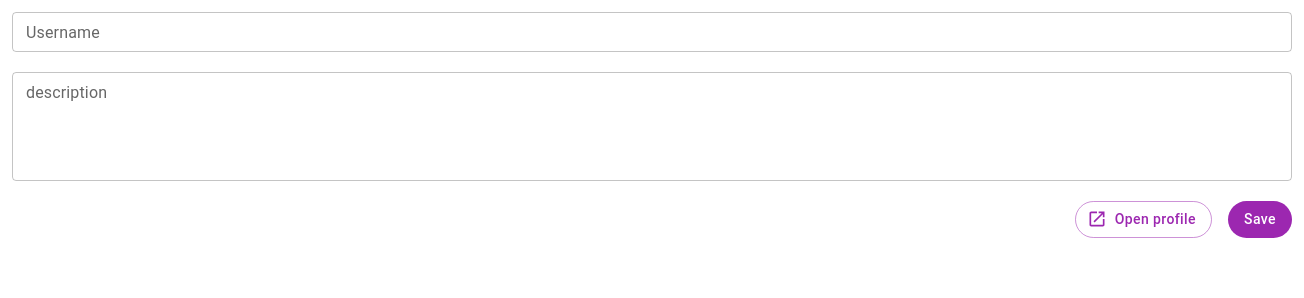
ProfileForm › validates required fields
Click the button "Save": x=1260, y=219 [1228,201,1292,238]
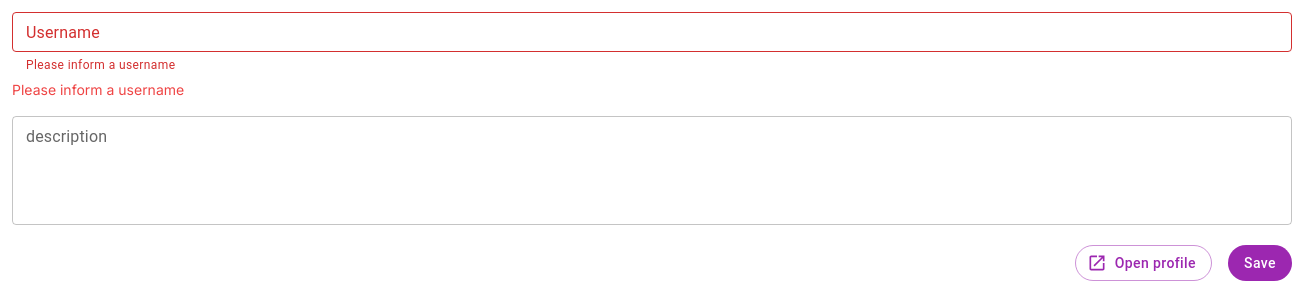
Expected: the text with test id "username-error" reads "Please inform a username", [12,81,184,98]
